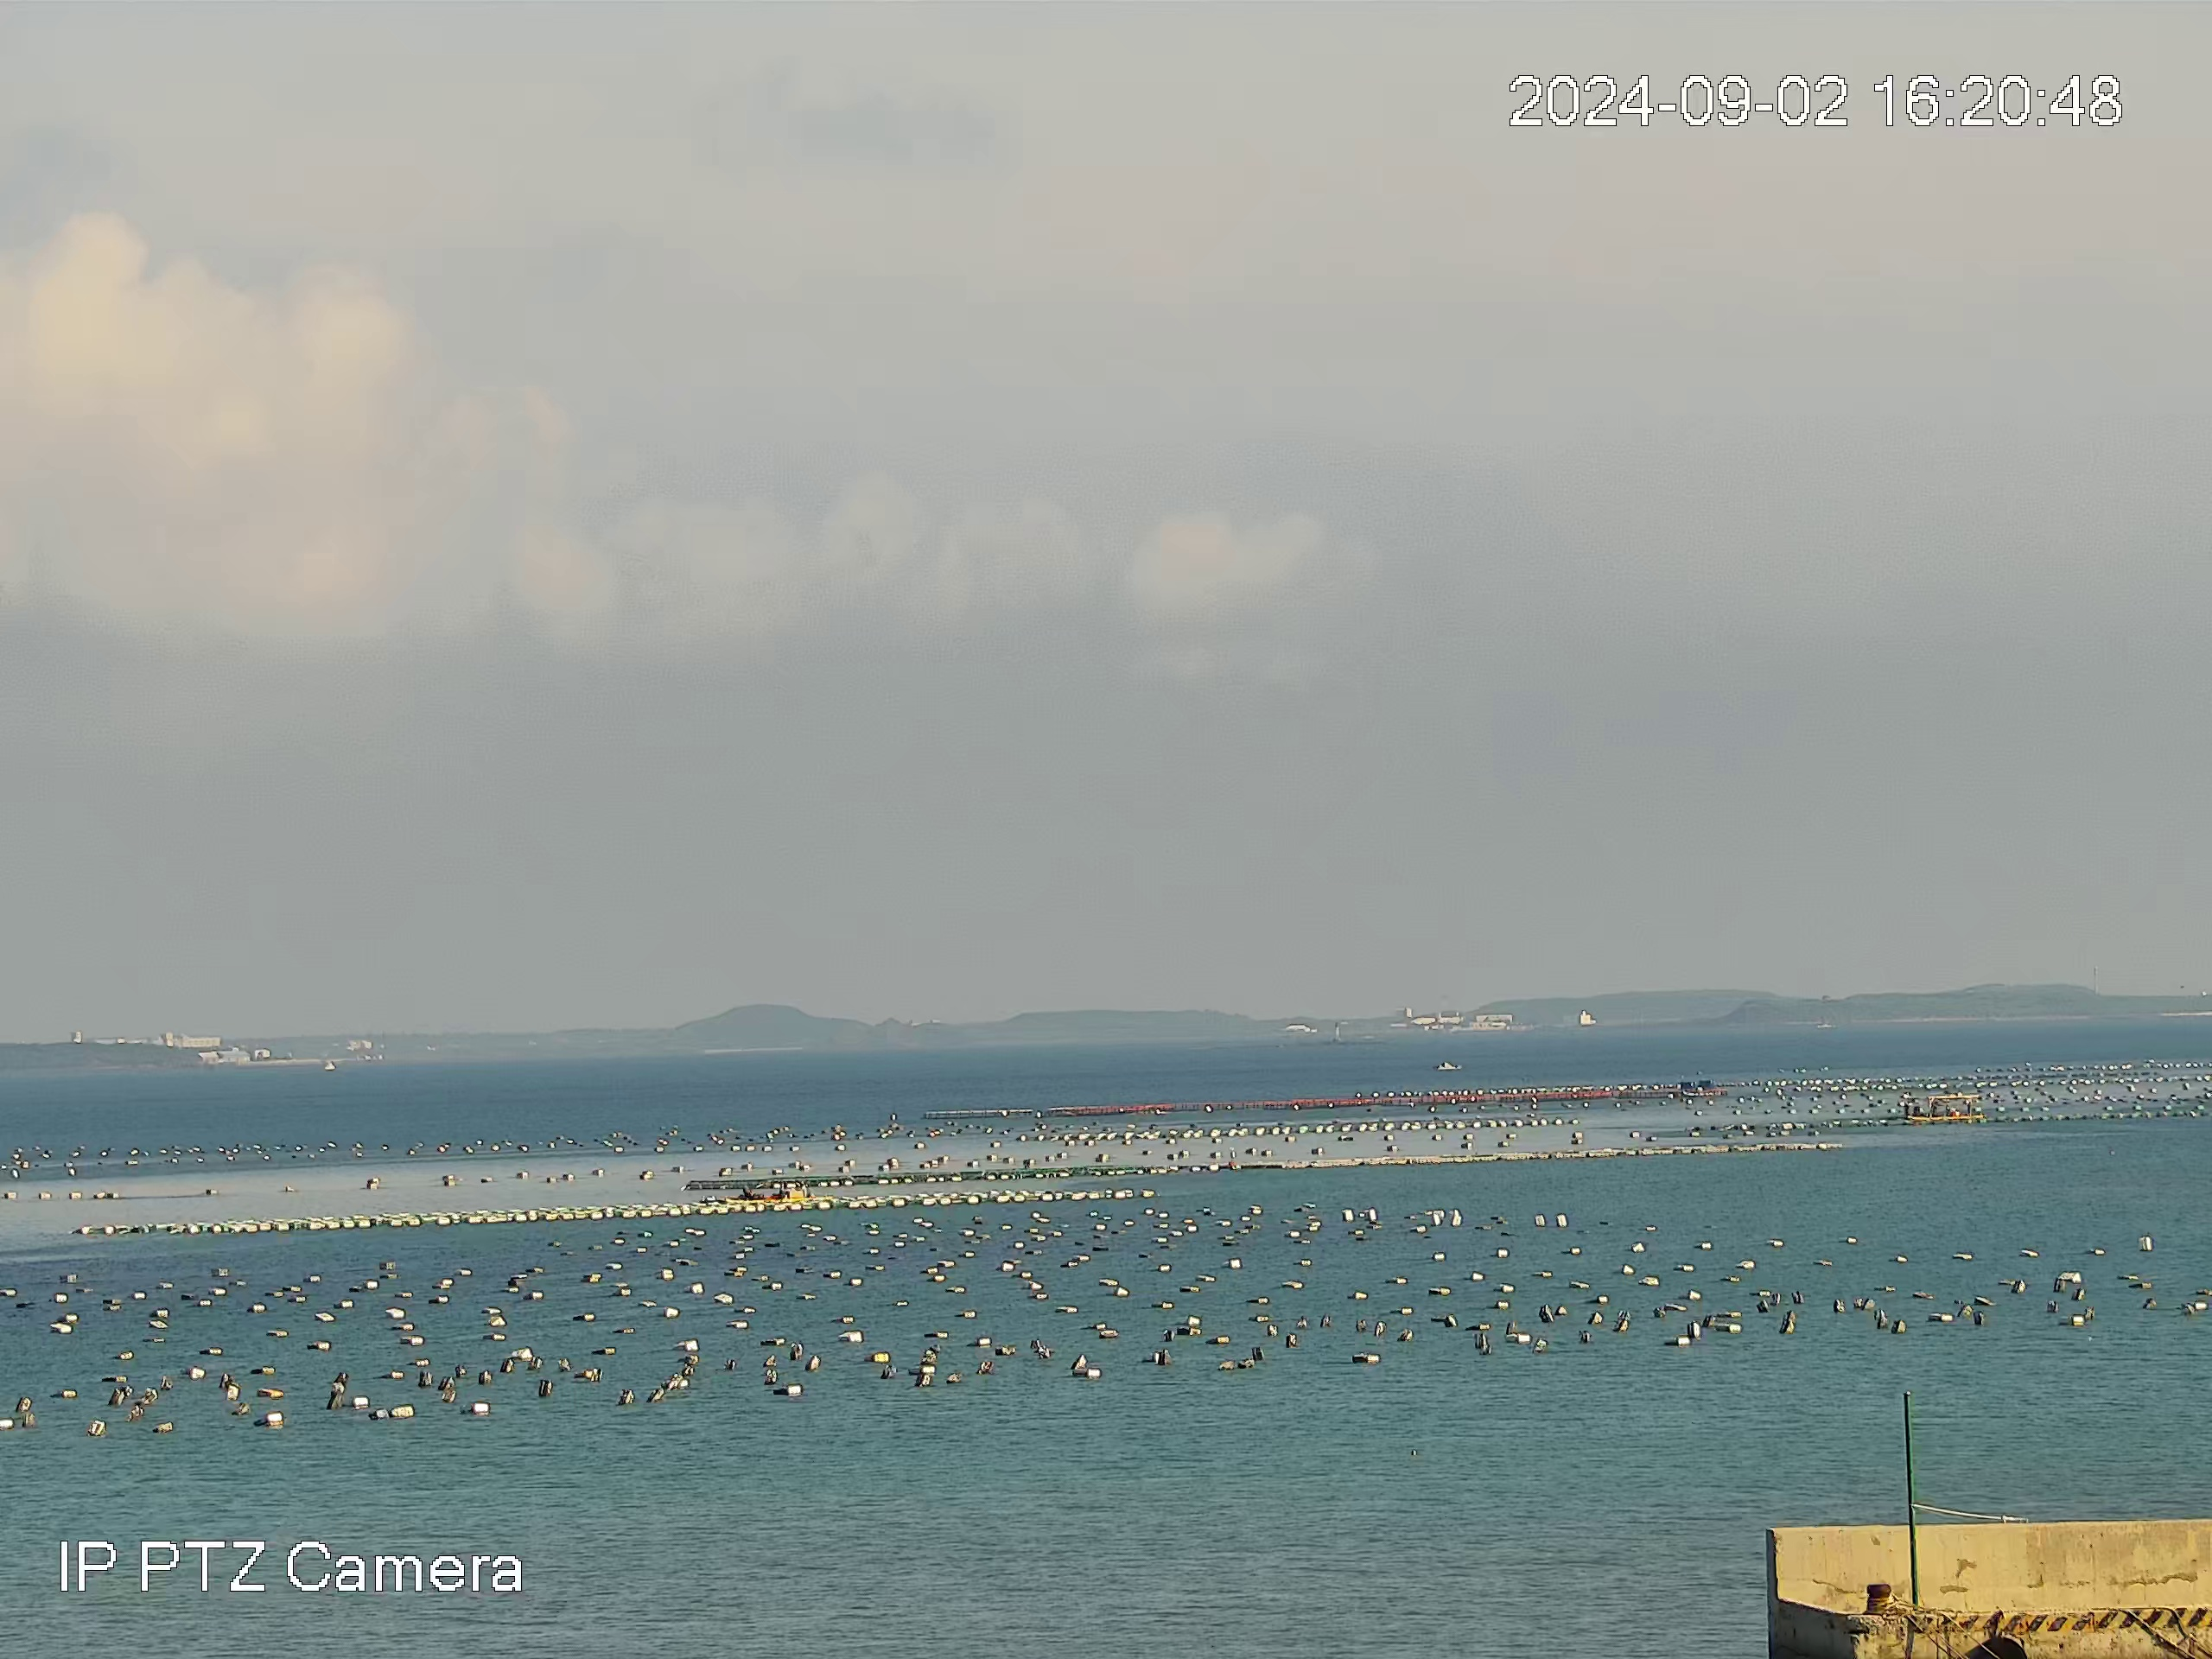boat: (1905, 1094, 1986, 1124), (725, 1180, 813, 1204), (1437, 1060, 1460, 1072)
